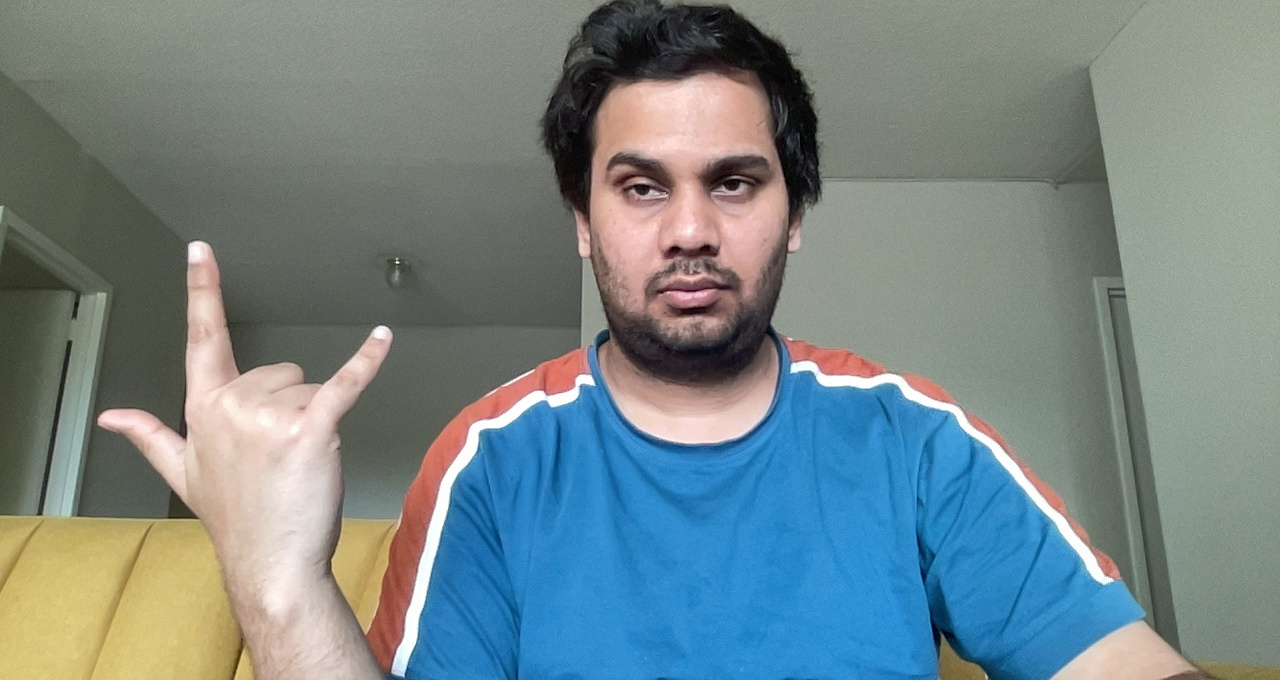rockon sign: (93, 228, 404, 590)
